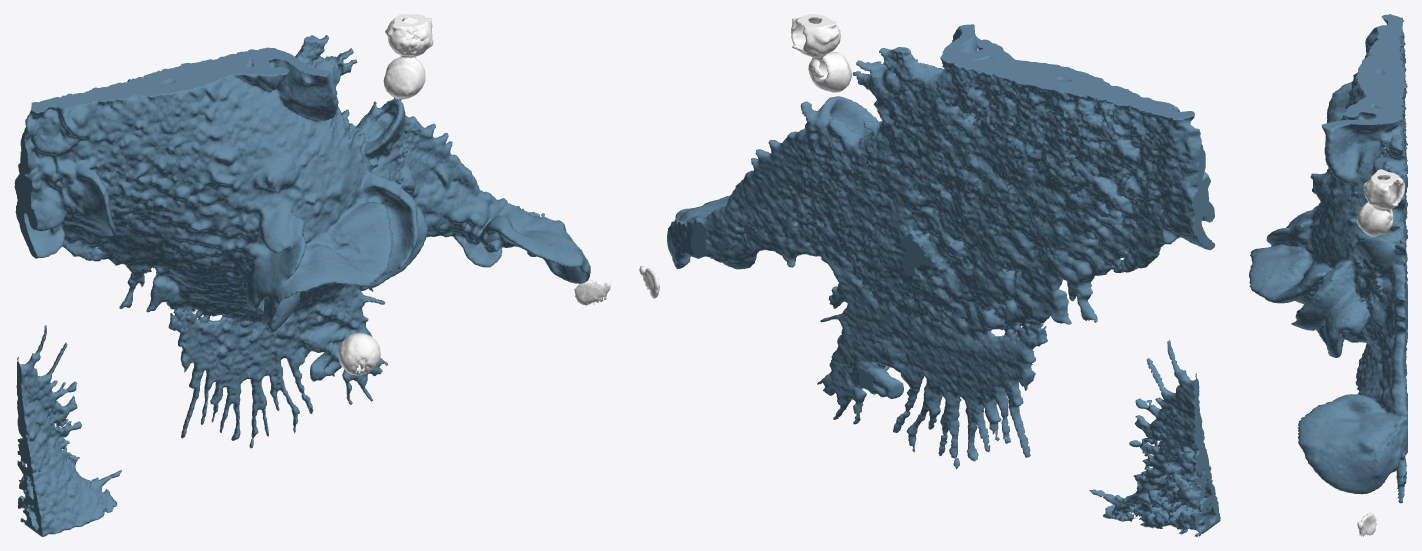
The picture shows the model from 3 angles, left to right: view 1: azimuth 30°, elevation 25°; view 2: azimuth 150°, elevation 25°; view 3: azimuth 270°, elevation 25°; orthographic projection. The views are drawn at different scales.
Parts seen in each view (by area): view 1: surface (×2); view 2: surface (×2); view 3: surface (×2).
Boxes of the visible parts, x1,y1,x2,y2 form: surface (×2): (14,14,610,536); surface (×2): (639,14,1220,536); surface (×2): (1249,14,1407,536).
Bounding box in the file's own units: 633 × 436 × 172.
